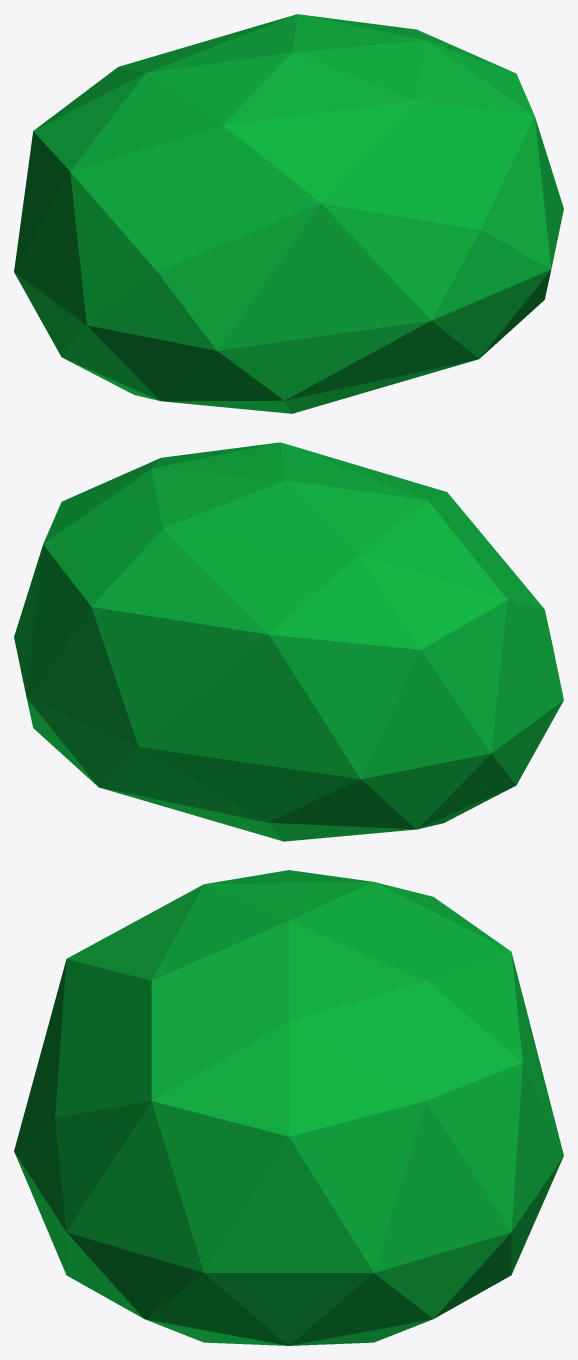
The model's file is bush_02.glb.
The picture shows the model from 3 angles, top to bottom: view 1: azimuth 30°, elevation 25°; view 2: azimuth 150°, elevation 25°; view 3: azimuth 270°, elevation 25°; orthographic projection. The views are drawn at different scales.
Visible parts, largest first — view 1: Shurb_2; view 2: Shurb_2; view 3: Shurb_2.
Part boxes in pixels (<box>): Shurb_2: <box>14,14,563,413</box>; Shurb_2: <box>14,442,563,841</box>; Shurb_2: <box>14,870,563,1345</box>.
Size of the model in its own units: 3.93 by 2.55 by 3.36.
1 material, 1 textured.
